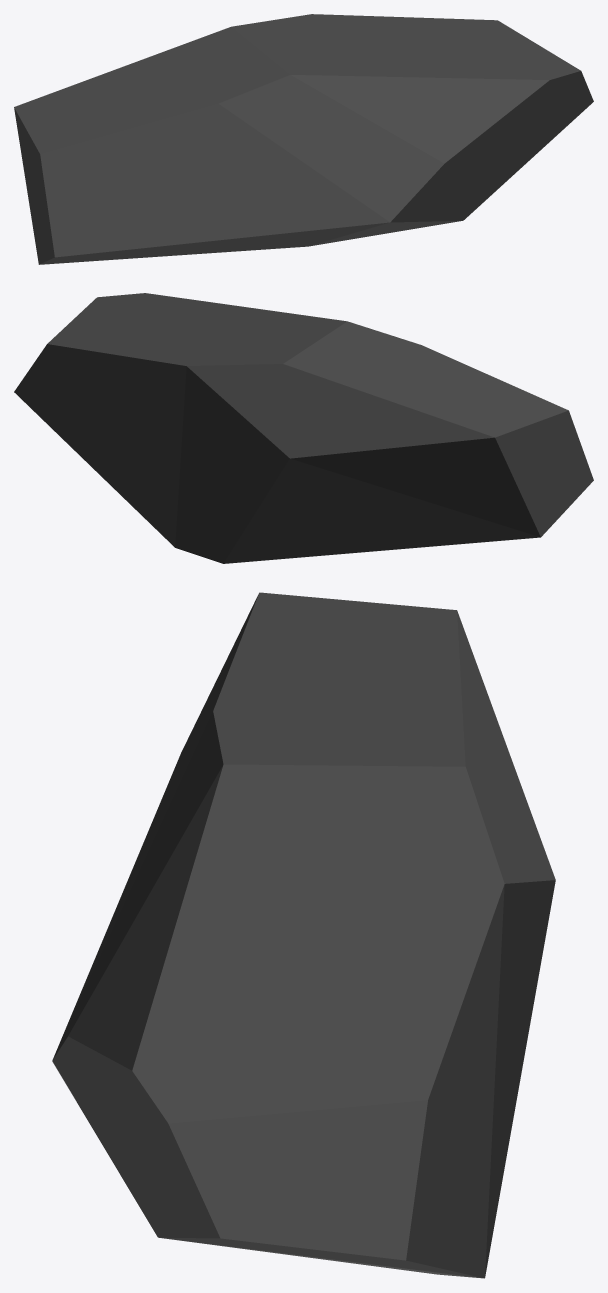
File: Rock_03.glb
The picture shows the model from 3 angles, top to bottom: view 1: azimuth 30°, elevation 25°; view 2: azimuth 150°, elevation 25°; view 3: azimuth 270°, elevation 25°; orthographic projection. The views are drawn at different scales.
Visible parts, largest first — view 1: Rock_03; view 2: Rock_03; view 3: Rock_03.
Boxes of the visible parts, box(x1,y1,x2,y2) form: Rock_03: box(14, 14, 593, 264); Rock_03: box(14, 293, 593, 563); Rock_03: box(52, 592, 555, 1278).
Size of what is drawn, in the model's own units: 2.55 by 1.03 by 1.06.
Materials: 1 (1 with a texture image).
